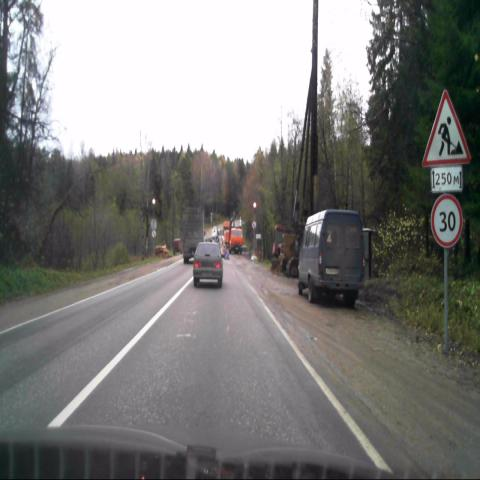1_25: (422, 88, 471, 165)
